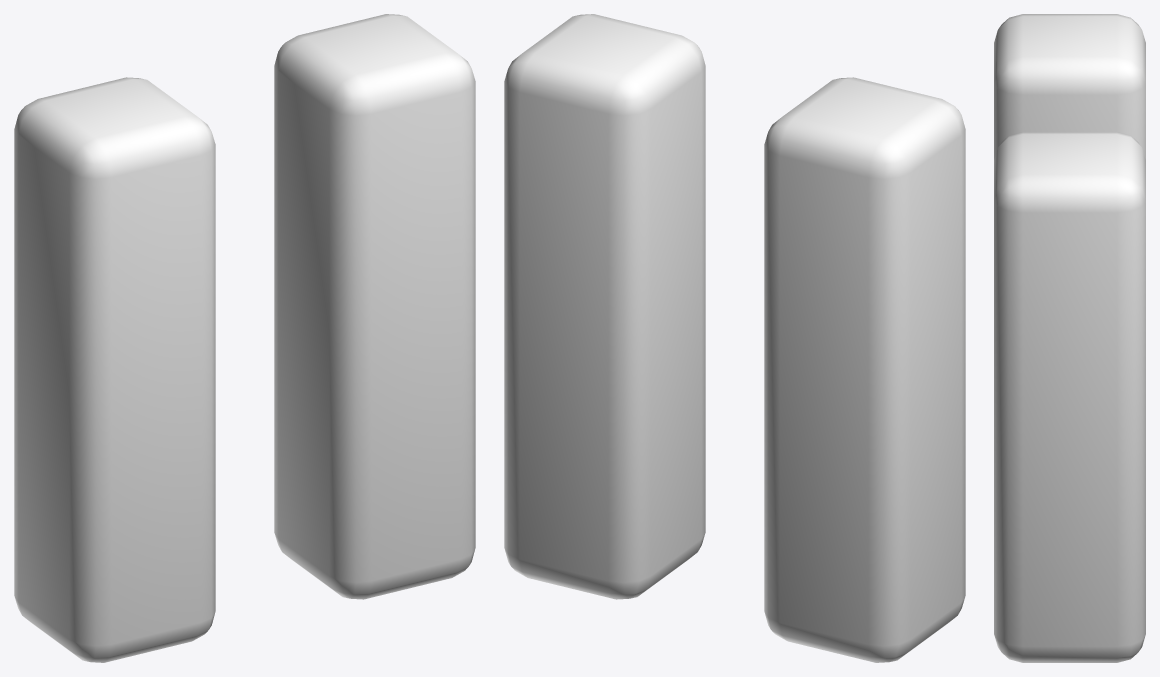
Rendered from Pause_3.fbx.
3 renders of one model, left to right at view 1: azimuth 30°, elevation 25°; view 2: azimuth 150°, elevation 25°; view 3: azimuth 270°, elevation 25°, orthographic. The views are drawn at different scales.
Parts seen in each view (by area): view 1: Pause_3; view 2: Pause_3; view 3: Pause_3.
Boxes of the visible parts, bbox=[...] form: Pause_3: bbox=[14, 14, 475, 662]; Pause_3: bbox=[504, 14, 965, 662]; Pause_3: bbox=[994, 14, 1145, 662].
Bounding box in the file's own units: 0.1675 × 0.2082 × 0.059.
